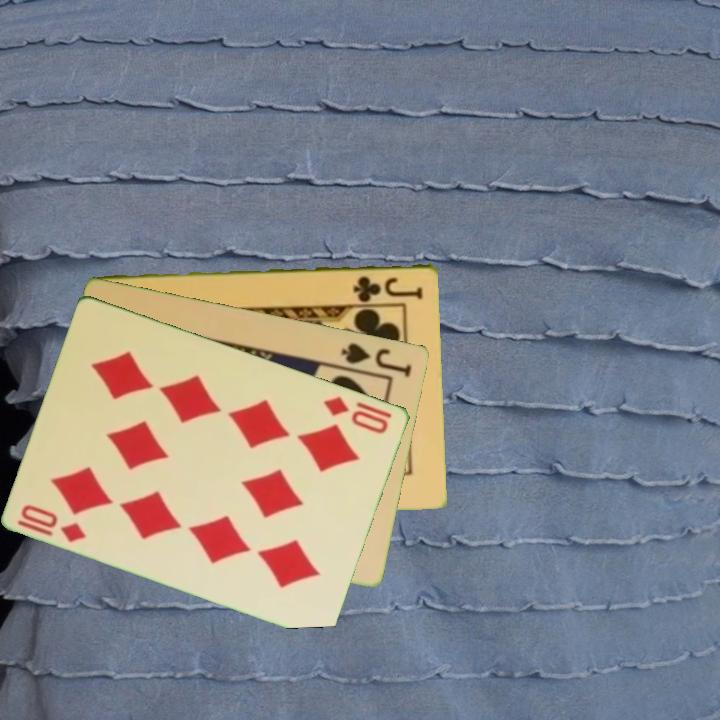10d: (14, 500, 90, 546), (320, 392, 392, 437)
Jc: (350, 272, 426, 303)
Js: (338, 338, 415, 380)
